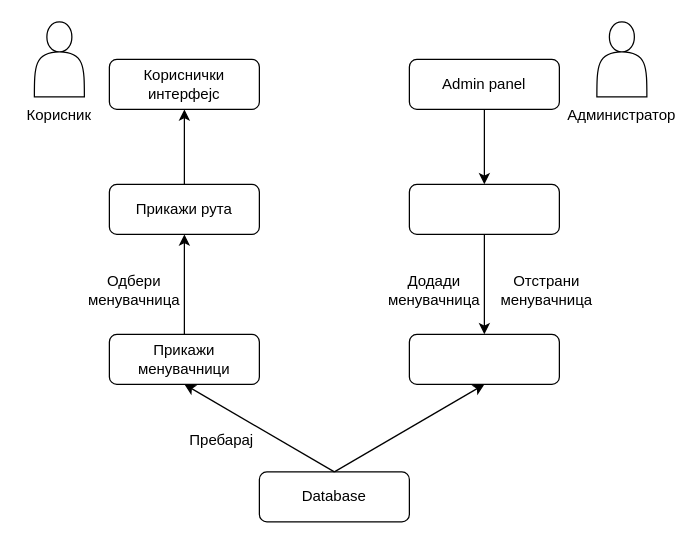
Some shapes in this 698 by 544 pixel diagram are drawn without their labels. The shapes that lost their labels are listed below. From the top down, each one's centre as x and y in pixels, then its label:
At (x=483, y=208): "Admin service".
At (x=483, y=358): "Листа со најблиски менувачници".
